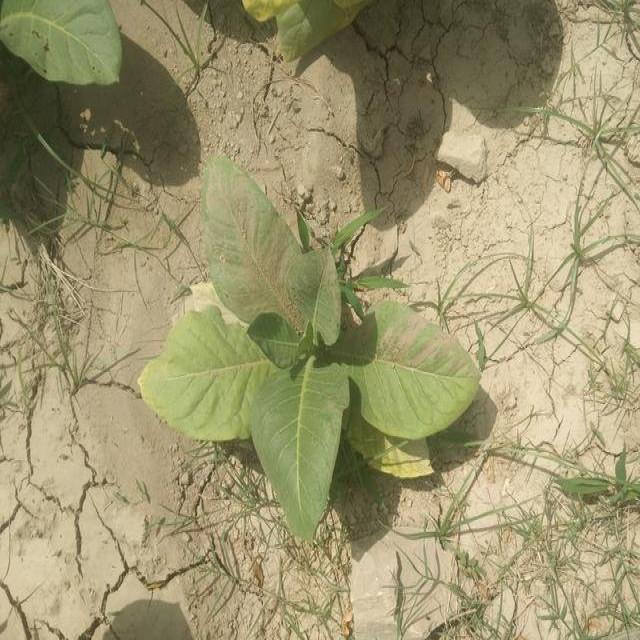crop: (150, 180, 476, 534), (2, 0, 128, 83)
